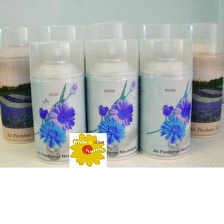aerosol_cans: (25, 37, 87, 167), (79, 36, 140, 162), (137, 33, 192, 164), (0, 19, 55, 145), (186, 16, 224, 139)
